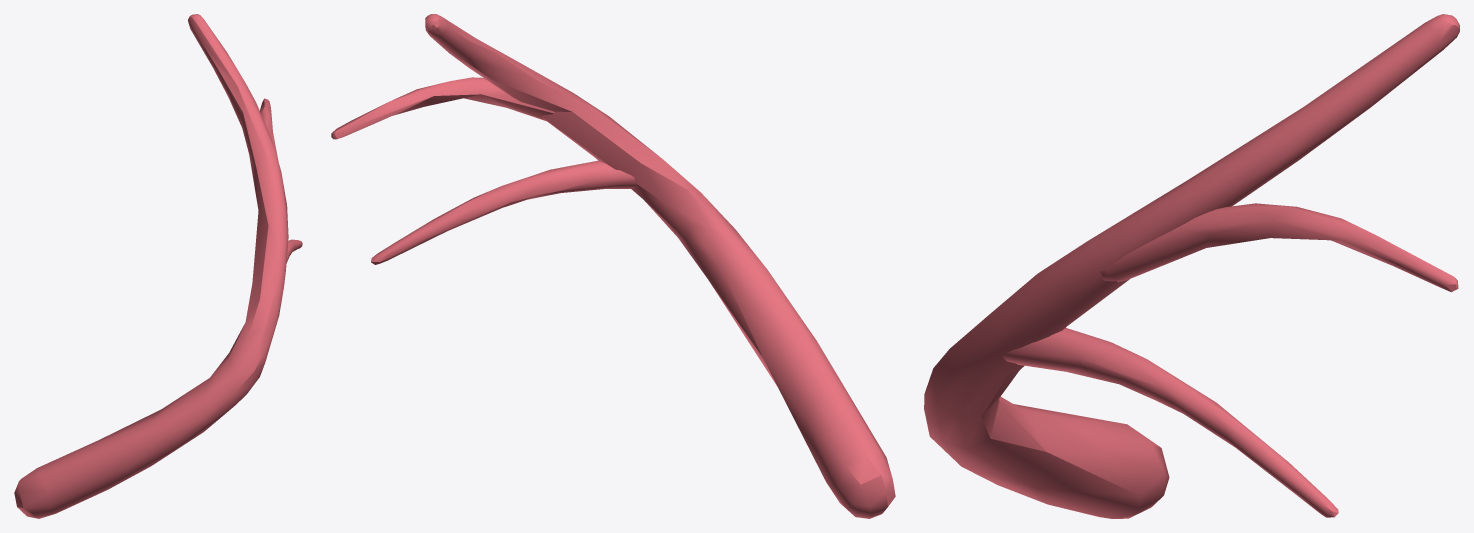
Rendered from fma8635_cx264.glb.
The picture shows the model from 3 angles, left to right: view 1: azimuth 30°, elevation 25°; view 2: azimuth 150°, elevation 25°; view 3: azimuth 270°, elevation 25°; orthographic projection. The views are drawn at different scales.
Visible parts, largest first — view 1: FMA8635_CX264; view 2: FMA8635_CX264; view 3: FMA8635_CX264.
Boxes of the visible parts, x1=… form: FMA8635_CX264: x1=14, y1=14, x2=302, y2=518; FMA8635_CX264: x1=331, y1=14, x2=895, y2=518; FMA8635_CX264: x1=924, y1=14, x2=1459, y2=518.
Size of the model in its own units: 0.0431 by 0.0464 by 0.0311.
